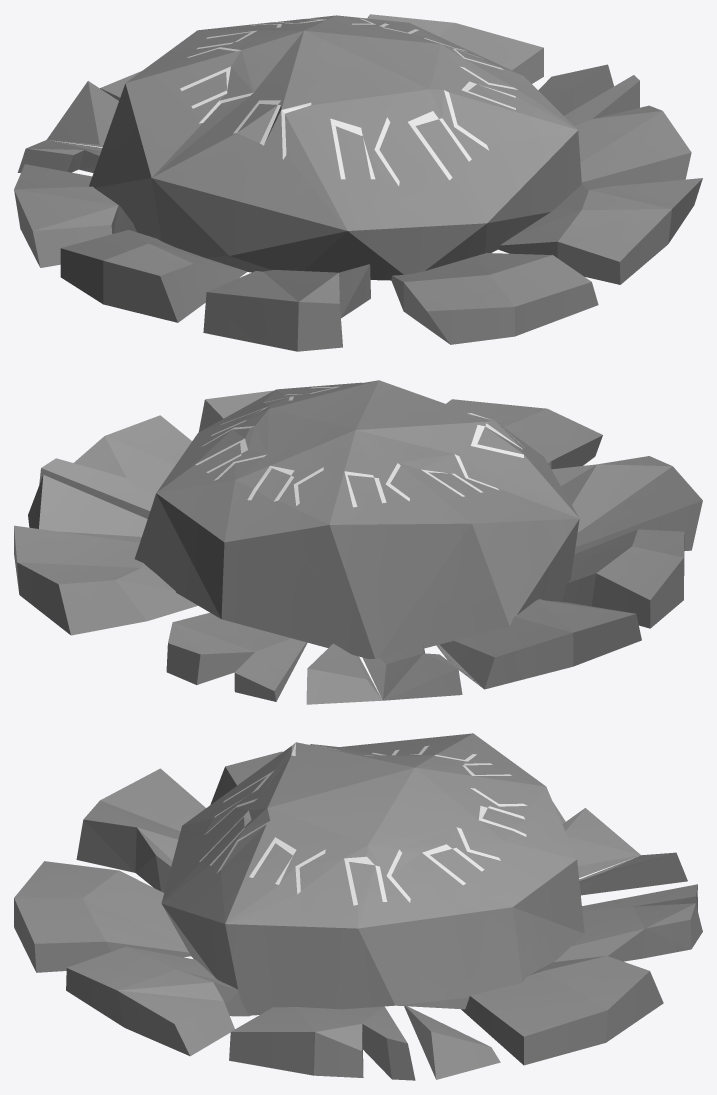
Rendered from runestone_floating_base.fbx.
3 views of the same model, one above another, from view 1: azimuth 30°, elevation 25°; view 2: azimuth 150°, elevation 25°; view 3: azimuth 270°, elevation 25° (orthographic). The views are drawn at different scales.
Visible parts, largest first — view 1: runestone_floating_base; view 2: runestone_floating_base; view 3: runestone_floating_base.
Part boxes in pixels (<box>): runestone_floating_base: <box>14,14,702,351</box>; runestone_floating_base: <box>14,380,702,704</box>; runestone_floating_base: <box>14,733,702,1080</box>.
Bounding box in the file's own units: 2 × 0.5 × 2.
Materials: 2 (1 with a texture image).
